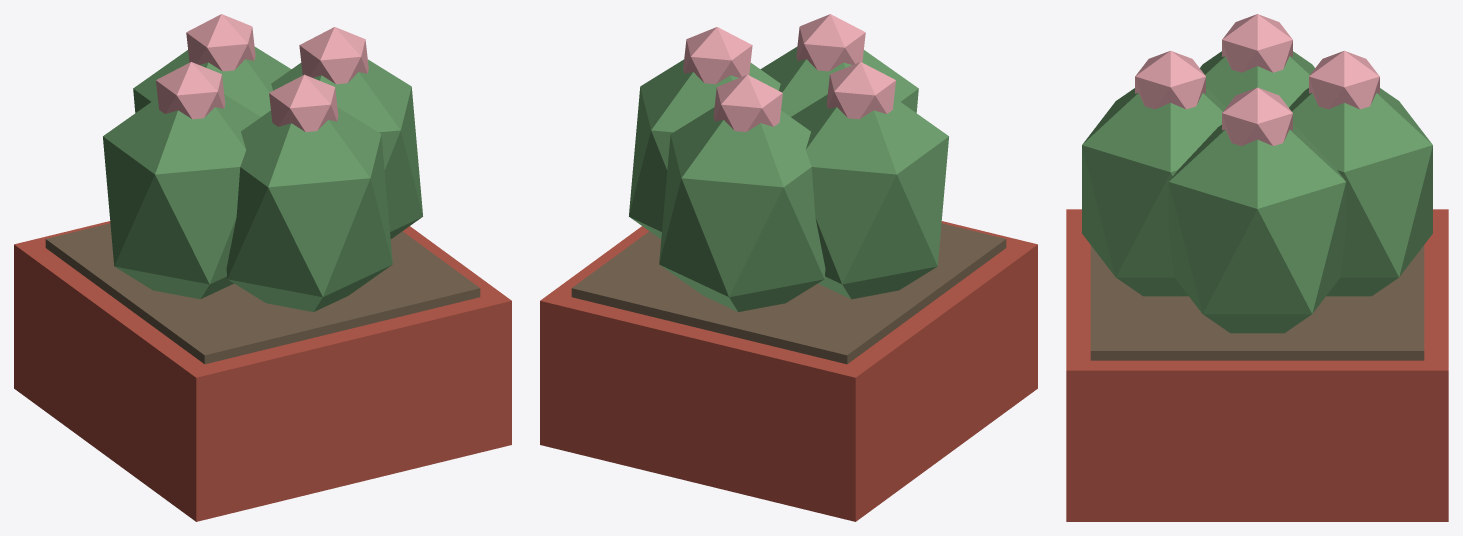
Rendered from planter.glb.
The picture shows the model from 3 angles, left to right: view 1: azimuth 30°, elevation 25°; view 2: azimuth 150°, elevation 25°; view 3: azimuth 270°, elevation 25°; orthographic projection. The views are drawn at different scales.
Parts seen in each view (by area): view 1: planter, plant.003, plant, soil, plant.001, plant.002, flower, flower.003, flower.002, flower.001; view 2: planter, plant.002, plant, soil, plant.001, plant.003, flower, flower.002, flower.003, flower.001; view 3: planter, plant.001, soil, plant.002, plant.003, plant, flower, flower.001, flower.002, flower.003.
Boxes of the visible parts, left/top/right/bottom form: planter: left=14, top=221, right=511, bottom=521; plant.003: left=226, top=107, right=392, bottom=311; plant: left=103, top=94, right=260, bottom=299; soil: left=45, top=223, right=480, bottom=364; plant.001: left=271, top=59, right=422, bottom=238; plant.002: left=133, top=47, right=291, bottom=116; flower: left=156, top=62, right=225, bottom=119; flower.003: left=269, top=74, right=338, bottom=131; flower.002: left=186, top=14, right=255, bottom=71; flower.001: left=299, top=27, right=368, bottom=84; planter: left=540, top=221, right=1037, bottom=521; plant.002: left=659, top=107, right=825, bottom=311; plant: left=791, top=94, right=948, bottom=299; soil: left=571, top=223, right=1006, bottom=364; plant.001: left=629, top=59, right=780, bottom=238; plant.003: left=760, top=47, right=918, bottom=116; flower: left=826, top=62, right=895, bottom=119; flower.002: left=713, top=74, right=782, bottom=131; flower.003: left=796, top=14, right=865, bottom=71; flower.001: left=683, top=27, right=752, bottom=84; planter: left=1066, top=209, right=1448, bottom=521; plant.001: left=1168, top=124, right=1346, bottom=333; soil: left=1090, top=245, right=1424, bottom=360; plant.002: left=1289, top=88, right=1432, bottom=296; plant.003: left=1082, top=88, right=1225, bottom=296; plant: left=1200, top=51, right=1314, bottom=107; flower: left=1222, top=14, right=1292, bottom=72; flower.001: left=1222, top=87, right=1292, bottom=145; flower.002: left=1309, top=50, right=1379, bottom=109; flower.003: left=1135, top=50, right=1205, bottom=109.
Bounding box in the file's own units: 1.1 × 1.24 × 1.1.
